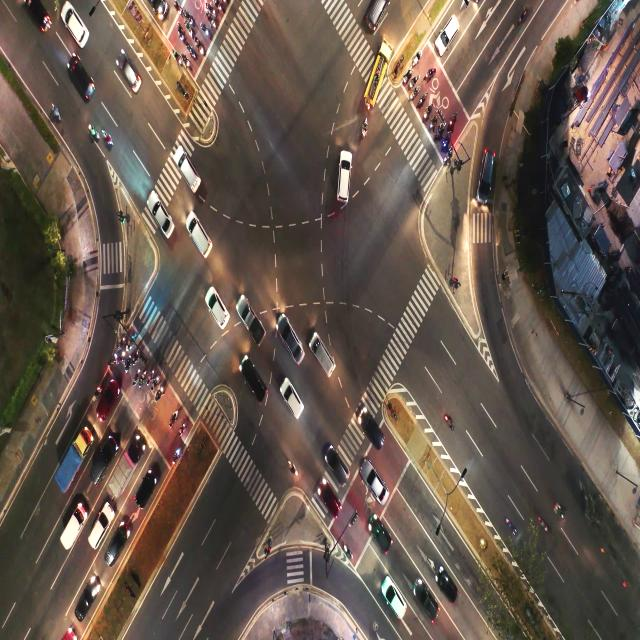bus: (371, 73, 380, 94)
car: (76, 73, 92, 96), (32, 9, 47, 31), (367, 421, 379, 448), (69, 14, 82, 38), (421, 595, 436, 615), (338, 170, 349, 197), (179, 165, 194, 184), (155, 210, 168, 230), (249, 375, 260, 397), (444, 576, 456, 596), (374, 480, 385, 501), (484, 162, 494, 185), (213, 300, 223, 322), (195, 230, 206, 250), (78, 590, 88, 612), (321, 352, 331, 372), (142, 480, 152, 500), (111, 532, 121, 552), (372, 1, 381, 23), (290, 395, 300, 414), (378, 528, 387, 548), (335, 465, 345, 483), (289, 336, 298, 356), (444, 24, 453, 44), (95, 518, 104, 536), (392, 596, 402, 612), (326, 496, 336, 512), (102, 397, 110, 416), (128, 72, 138, 87), (98, 454, 105, 471)
motorcycle: (554, 502, 566, 520), (87, 124, 99, 142), (538, 512, 548, 532), (444, 412, 454, 432), (102, 130, 113, 148), (286, 458, 298, 474), (505, 518, 515, 536), (343, 541, 352, 561), (52, 102, 61, 119), (173, 2, 182, 14), (362, 118, 367, 136), (186, 15, 194, 26), (205, 27, 211, 40), (414, 55, 420, 67), (174, 446, 180, 458), (190, 49, 197, 59), (210, 19, 217, 29), (404, 71, 410, 82), (172, 411, 178, 422), (200, 44, 205, 56), (425, 108, 430, 119), (427, 69, 432, 80), (181, 421, 186, 432), (451, 115, 456, 125), (412, 78, 417, 88), (159, 385, 164, 395), (418, 98, 424, 106), (188, 28, 192, 40), (443, 138, 448, 147), (437, 129, 442, 138), (95, 388, 99, 399), (181, 30, 184, 43), (432, 119, 436, 128), (113, 353, 117, 362), (176, 55, 180, 64), (218, 5, 223, 12), (150, 372, 154, 380), (142, 370, 146, 378), (136, 366, 140, 374), (127, 340, 131, 348), (155, 374, 158, 384), (447, 153, 451, 160), (185, 61, 190, 66), (413, 90, 416, 98), (210, 8, 214, 14), (122, 337, 125, 342), (136, 353, 138, 359), (129, 356, 131, 362), (123, 352, 125, 357)
truck: (60, 447, 80, 477), (248, 317, 262, 340), (66, 524, 78, 542), (120, 463, 128, 477)
